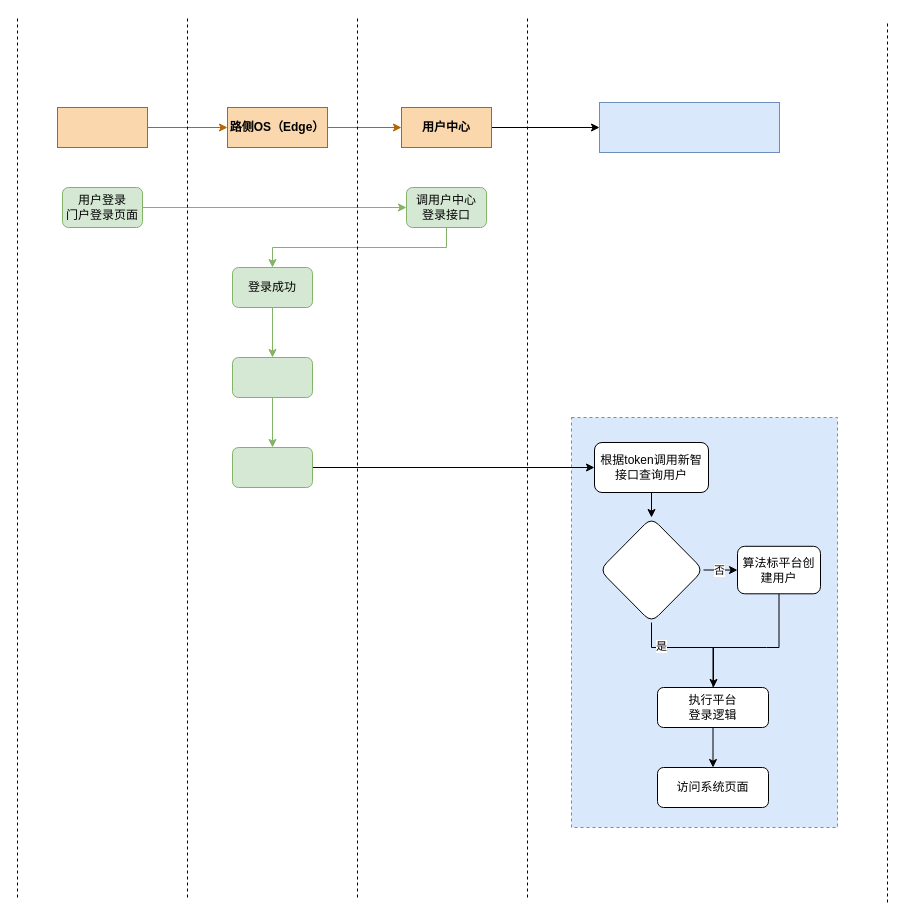
Image size: 906x921. Some labels were removed from this diagram. Each missing label, with the centre of its shape:
根据返回结果校验用户在算法标平台是否存在: the point at 651,569
点击AI服务菜单: the point at 272,467
用户: the point at 102,127
算法标注平台: the point at 689,127
进入业务系统首页: the point at 272,377
